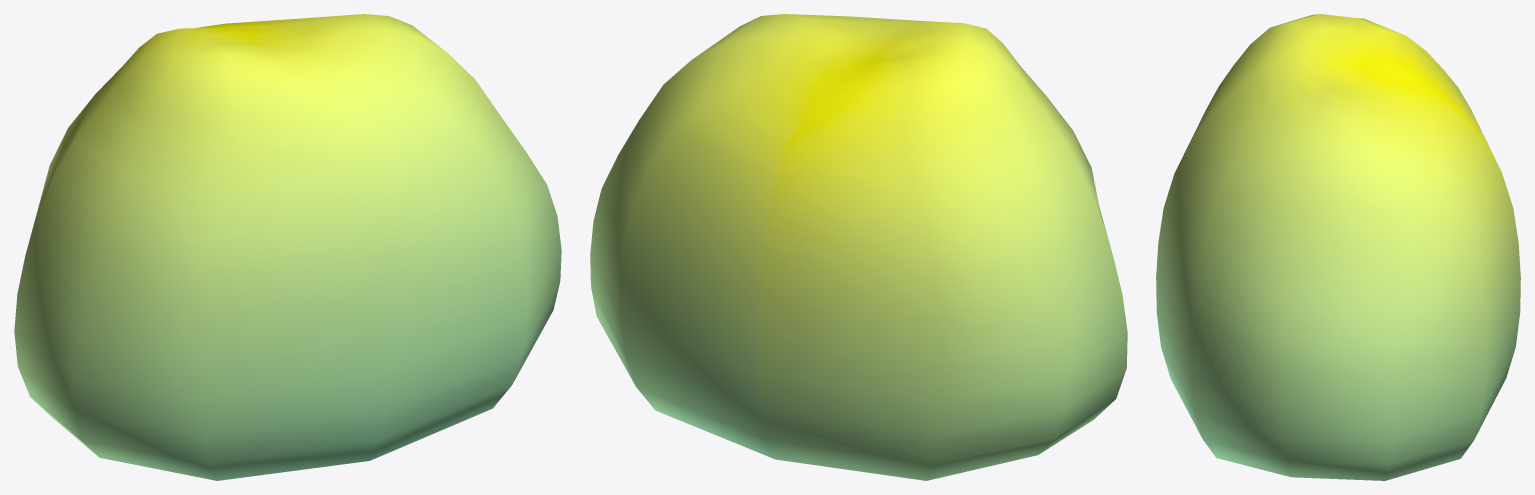
File: Bush3.fbx
3 renders of one model, left to right at view 1: azimuth 30°, elevation 25°; view 2: azimuth 150°, elevation 25°; view 3: azimuth 270°, elevation 25°, orthographic. The views are drawn at different scales.
Visible parts, largest first — view 1: Bush_03; view 2: Bush_03; view 3: Bush_03.
Part boxes in pixels (<box>): Bush_03: <box>14,14,561,480</box>; Bush_03: <box>590,14,1127,480</box>; Bush_03: <box>1156,14,1520,480</box>.
Size of the model in its own units: 146 by 115 by 105.
1 material, 1 textured.
